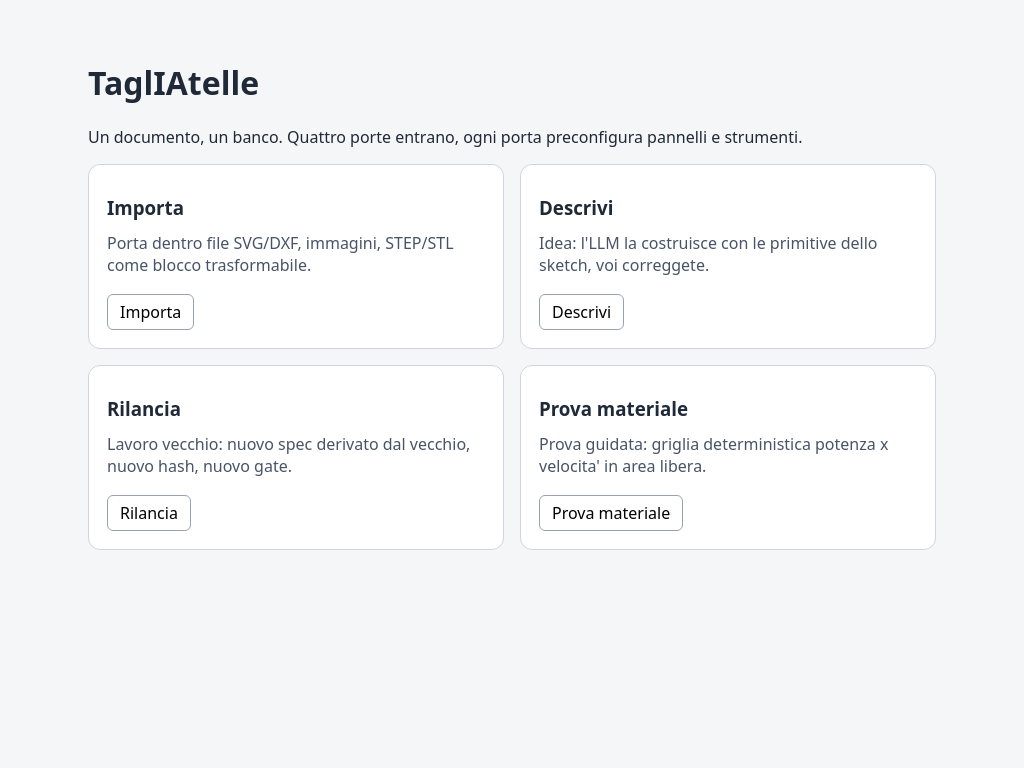
it: four doors -> one workbench › door "Descrivi" opens the workbench in mode describe, preselecting its object
The image size is (1024, 768).
Expected: the heading "Descrivi" is shown, [539,195,613,220]
navigate: the door drives the single workbench with its mode
Click the button "Descrivi" at (582, 312), box [539,294,624,330]
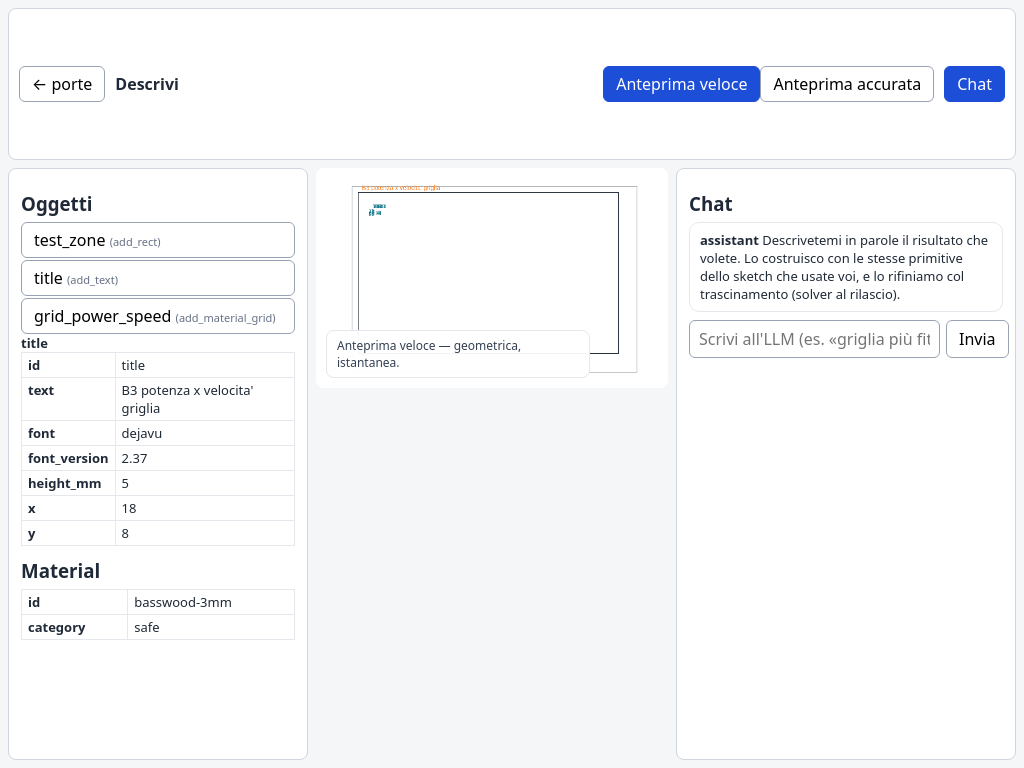
Expected: the drawing with test id "canvas" is shown, [316,168,668,388]
Expected: the list with test id "chat-log" is shown, [689,222,1003,312]
Expected: the element with test id "properties-panel" that starts with "Oggetti" is shown, [21,190,295,640]
